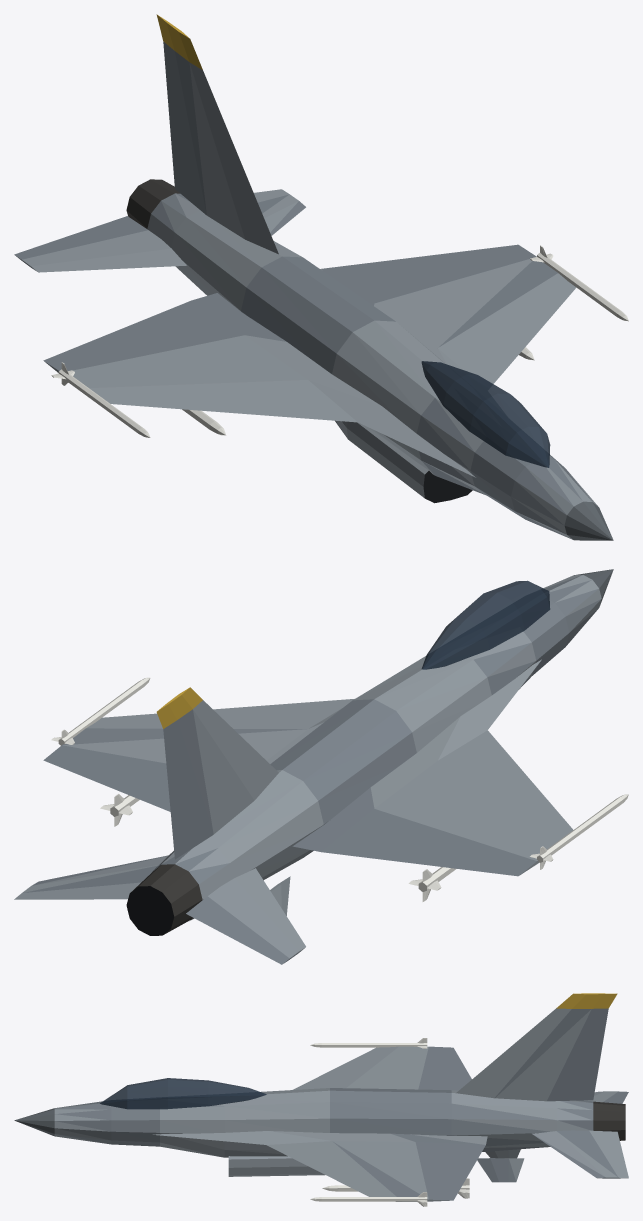
3 views of the same model, one above another, from view 1: azimuth 30°, elevation 25°; view 2: azimuth 150°, elevation 25°; view 3: azimuth 270°, elevation 25° (orthographic). The views are drawn at different scales.
Visible parts, largest first — view 1: airframe, canopy, stores; view 2: airframe, canopy, stores; view 3: airframe, canopy, stores.
Part boxes in pixels (x1=…): airframe: x1=14, y1=14, x2=613, y2=540; canopy: x1=421, y1=361, x2=550, y2=467; stores: x1=51, y1=245, x2=628, y2=437; airframe: x1=14, y1=569, x2=613, y2=964; canopy: x1=421, y1=580, x2=550, y2=669; stores: x1=51, y1=677, x2=628, y2=901; airframe: x1=14, y1=993, x2=628, y2=1201; canopy: x1=100, y1=1078, x2=266, y2=1109; stores: x1=310, y1=1038, x2=469, y2=1206.
Bounding box in the file's own units: 9.39 × 4.86 × 15.18.
